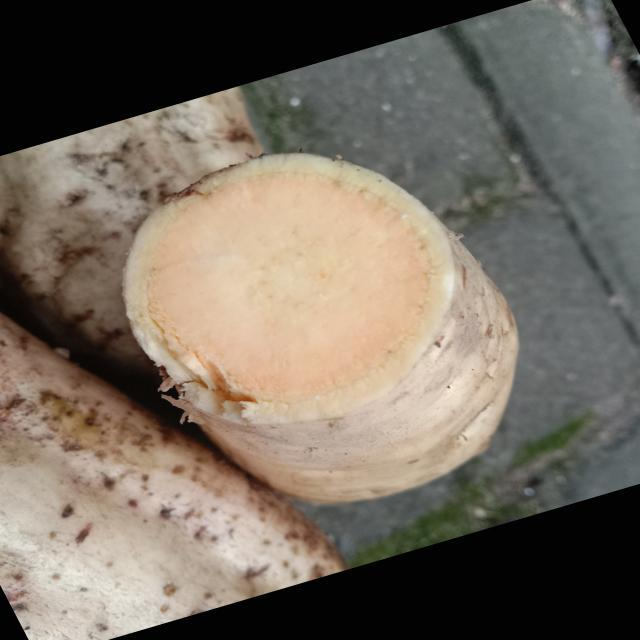Healthy Sweet Potato: (123, 154, 455, 424)
